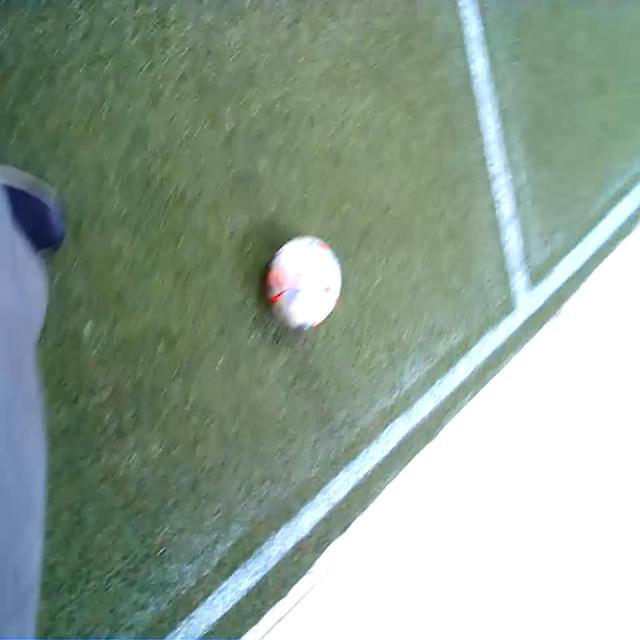ball: (269, 236, 341, 332)
